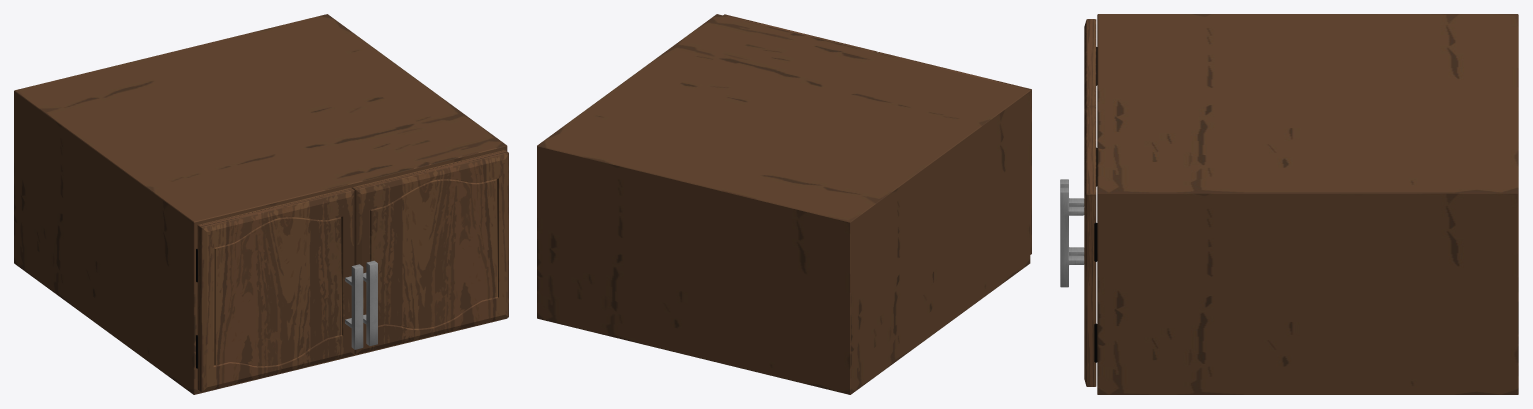
File: top - cabinet - small.fbx
3 views of the same model, side by side, from view 1: azimuth 30°, elevation 25°; view 2: azimuth 150°, elevation 25°; view 3: azimuth 270°, elevation 25° (orthographic). The views are drawn at different scales.
Visible parts, largest first — view 1: Top - Cab - small - back, cab - door left.003, cab - door right.002; view 2: Top - Cab - small - back, cab - door left.003; view 3: Top - Cab - small - back, cab - door right.002, cab - door left.003.
Boxes of the visible parts, x1,y1,x2,y2 form: Top - Cab - small - back: (14, 14, 507, 394); cab - door left.003: (197, 187, 363, 392); cab - door right.002: (352, 150, 508, 354); Top - Cab - small - back: (537, 14, 1030, 394); cab - door left.003: (877, 52, 1031, 254); Top - Cab - small - back: (1094, 14, 1518, 394); cab - door right.002: (1060, 107, 1096, 386); cab - door left.003: (1060, 19, 1096, 255).
Bounding box in the file's own units: 10442 × 11296 × 5500.
